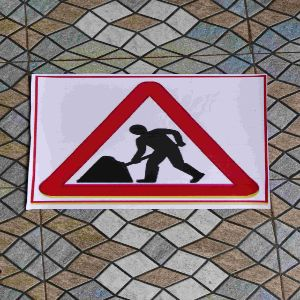men at work: (33, 74, 273, 209)
